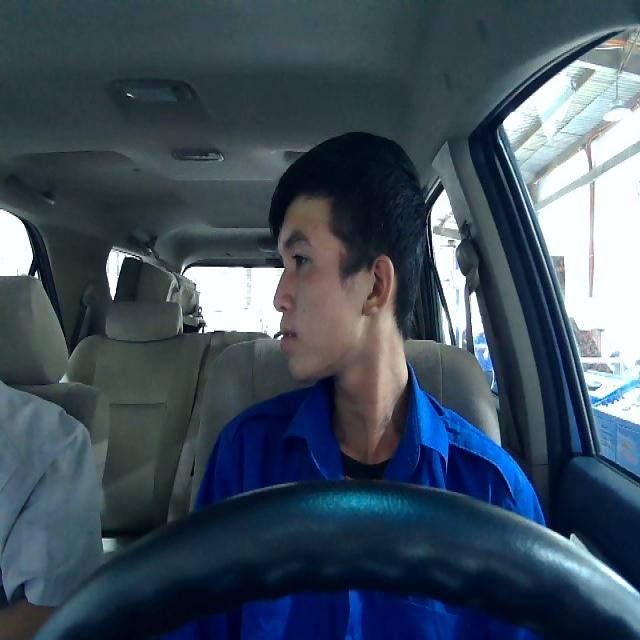seeing_left: (271, 190, 396, 386)
